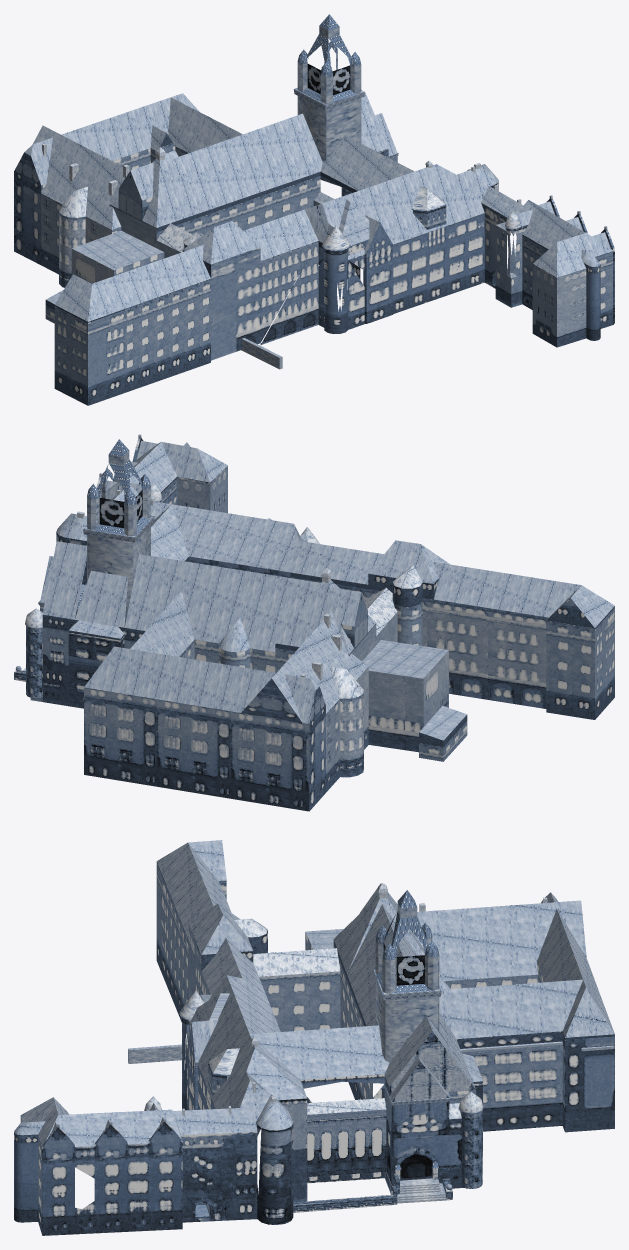
Rendered from 1Georg-Schumann-Bau.gltf.
3 views of the same model, one above another, from view 1: azimuth 30°, elevation 25°; view 2: azimuth 150°, elevation 25°; view 3: azimuth 270°, elevation 25° (orthographic). The views are drawn at different scales.
Visible parts, largest first — view 1: Dach.1; view 2: Dach.1; view 3: Dach.1.
Boxes of the visible parts, <box> form: Dach.1: <box>14,14,614,405</box>; Dach.1: <box>14,434,614,811</box>; Dach.1: <box>14,840,614,1235</box>.
Bounding box in the file's own units: 126 × 56.88 × 114.
50 materials, 50 textured.
